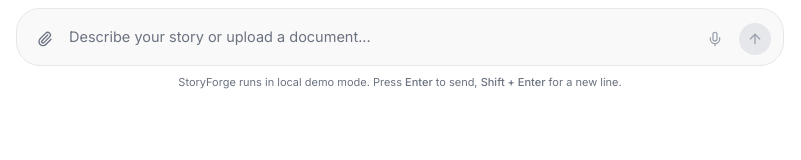
it: ChatComposer voice integration › keeps typed submission working when Web Speech API is unsupported
Later steps or results of the test are not shown.
Click the button named "Start voice input": (715, 39) [699, 23, 731, 55]
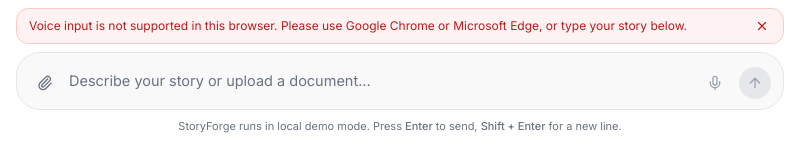
Check: the message shows "not supported", box [29, 18, 687, 33]
